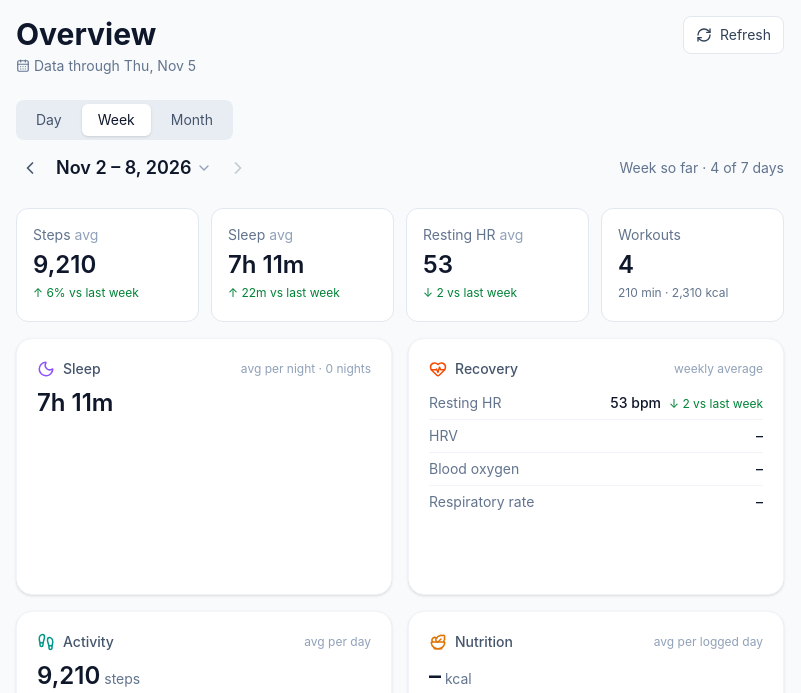
Test: Overview › steps back a week, and not past today
Expected: the button named "Next period" is disabled, [224,154,252,182]
Click the button named "Previous period" at {"x": 30, "y": 168}, box [16,154,44,182]
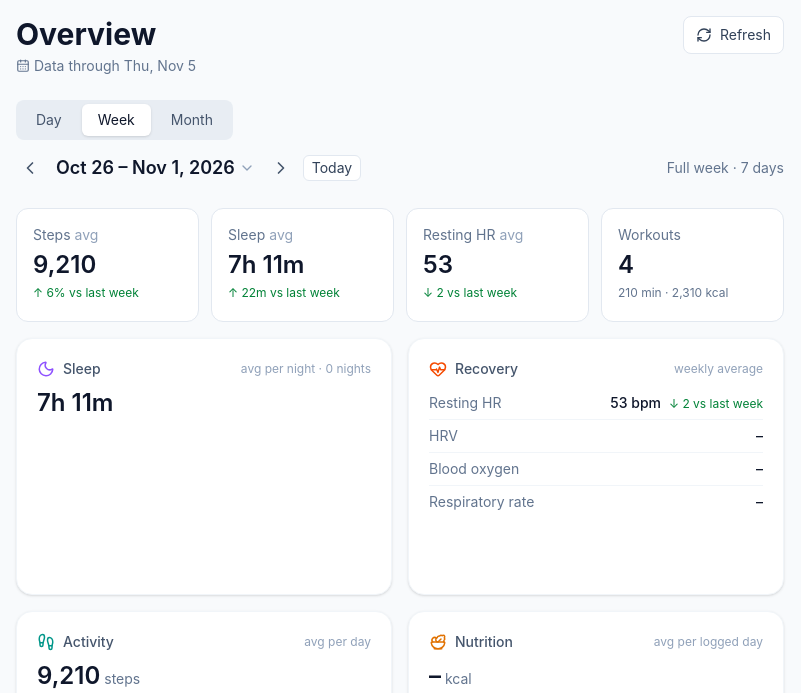
Now the heading "Oct 26 – Nov 1, 2026" is shown, box [48,152,263,184]
Now the button named "Next period" is enabled
Click the button named "Next period" at {"x": 281, "y": 168}, box [267,154,295,182]
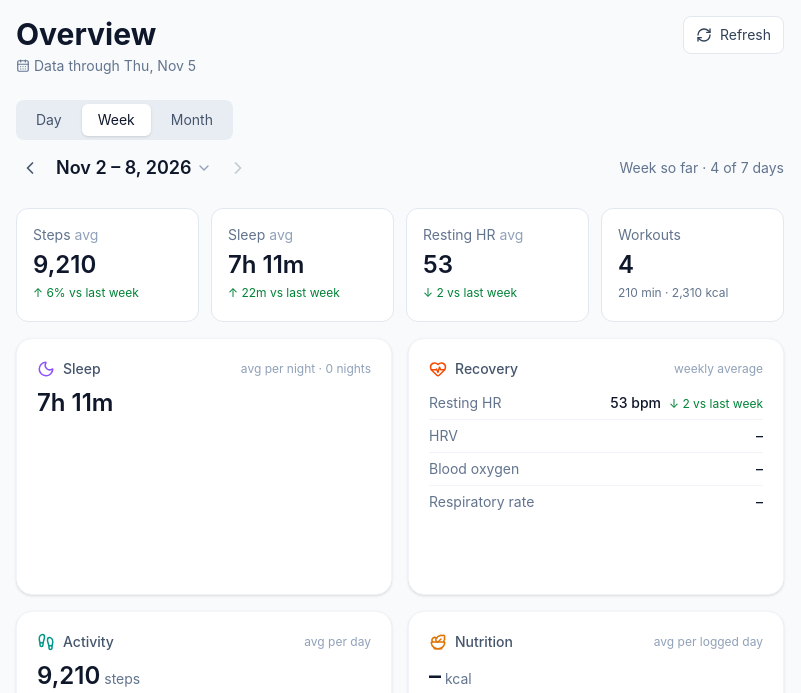
Now the heading "Nov 2 – 8, 2026" is shown, box [48,152,220,184]
